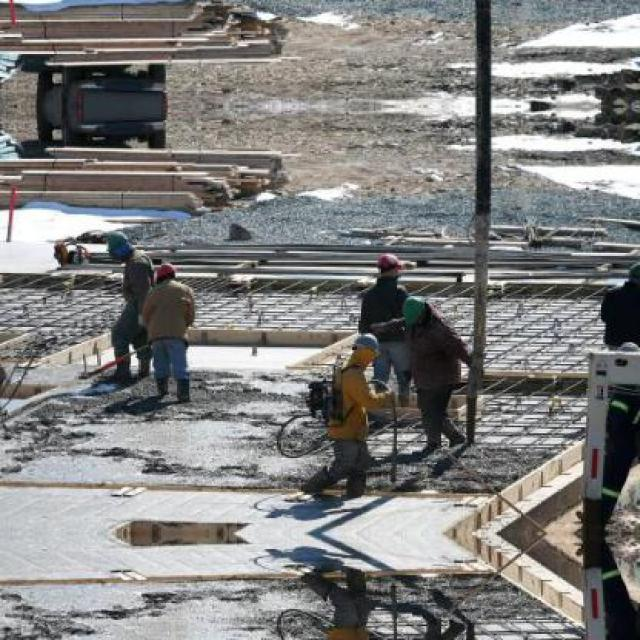helmet: (348, 331, 381, 361), (102, 230, 132, 259), (399, 293, 426, 322), (374, 252, 404, 274), (154, 260, 175, 281)
